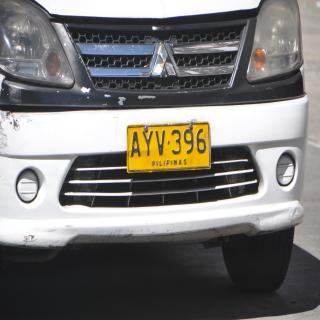license: (128, 123, 212, 174)
